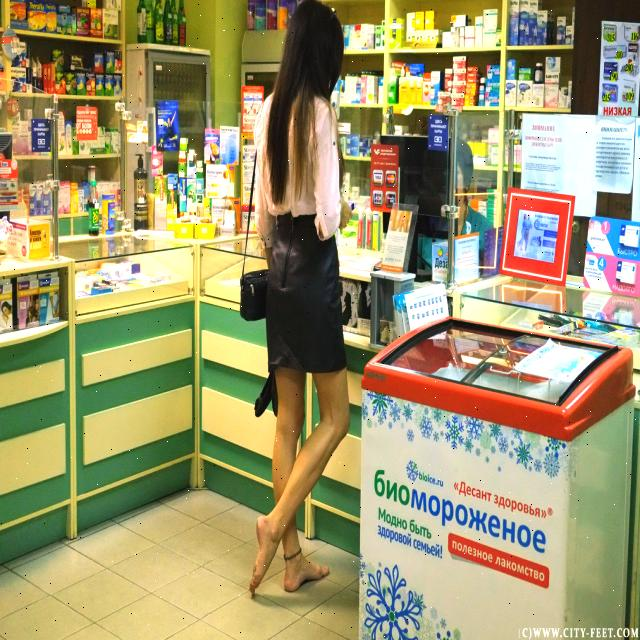No Safety Boots: (249, 515, 268, 595), (284, 562, 329, 592)
